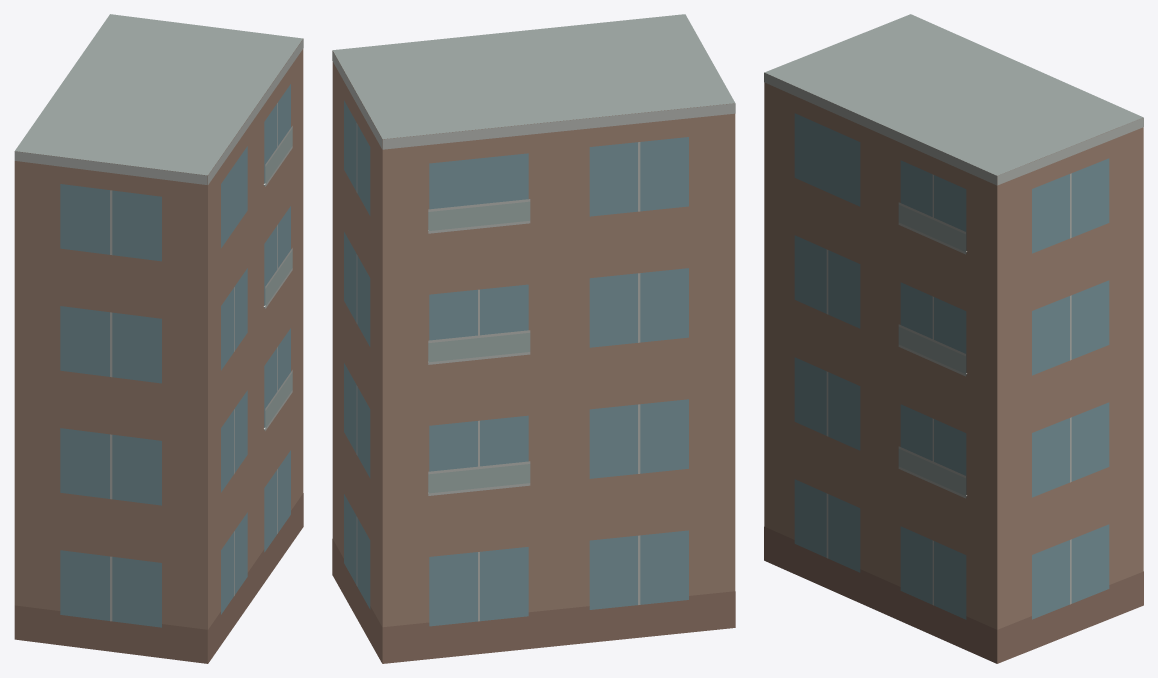
The model's file is survey-upis-32646366.glb.
3 views of the same model, side by side, from view 1: azimuth 30°, elevation 25°; view 2: azimuth 150°, elevation 25°; view 3: azimuth 270°, elevation 25° (orthographic). The views are drawn at different scales.
Parts seen in each view (by area): view 1: survey-upis-32646366.tmp; view 2: survey-upis-32646366.tmp; view 3: survey-upis-32646366.tmp.
Boxes of the visible parts, box(x1,y1,x2,y2) form: survey-upis-32646366.tmp: box(14, 14, 303, 663); survey-upis-32646366.tmp: box(332, 14, 735, 663); survey-upis-32646366.tmp: box(764, 14, 1143, 663).
Size of the model in its own units: 8.68 by 12.2 by 8.61.
